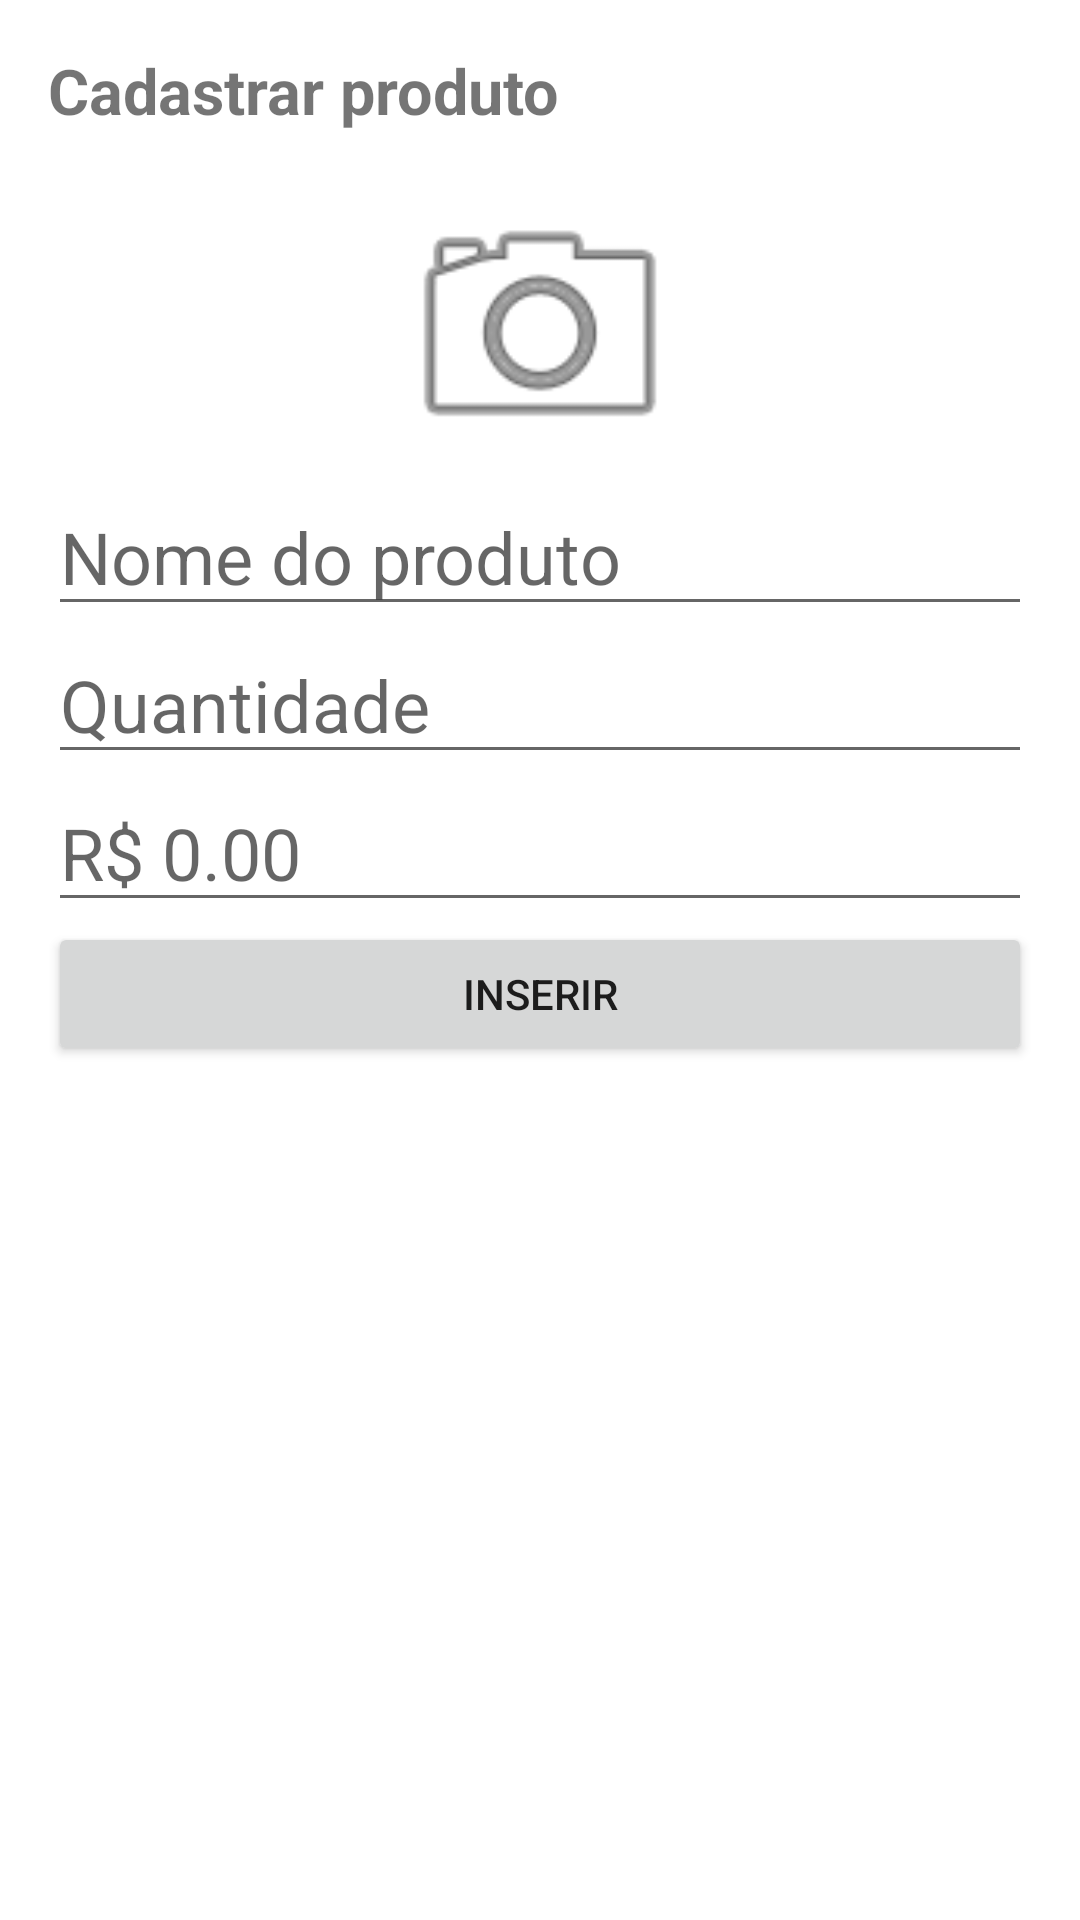

Named icons in this screenshot (1080x1920) and their centers, (x,y):
camera: (540,323)
